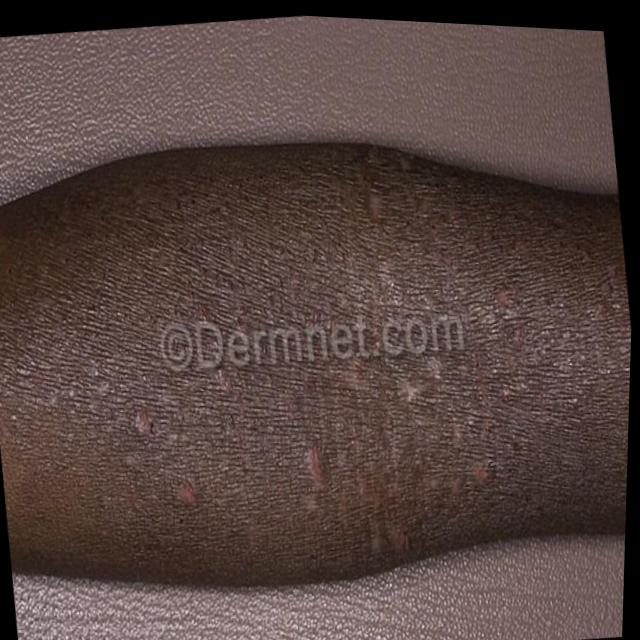liquenificacion 1: (0, 88, 637, 631)
